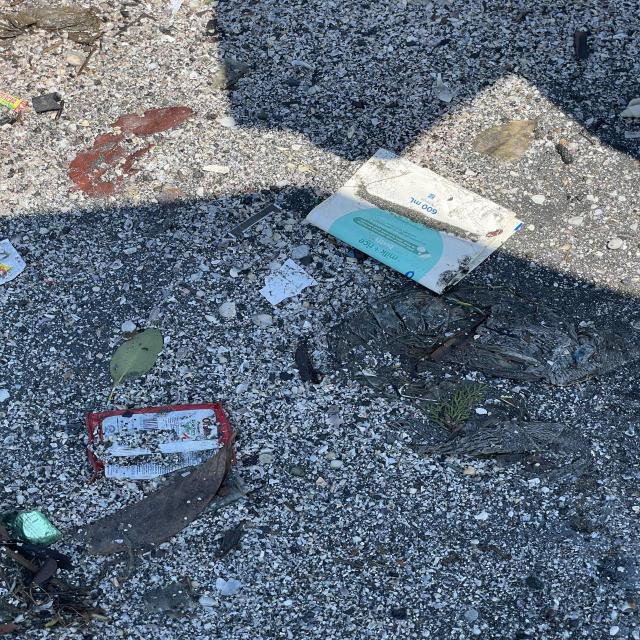litter: (304, 146, 526, 281), (84, 403, 236, 482), (0, 242, 26, 288), (0, 90, 28, 114)
